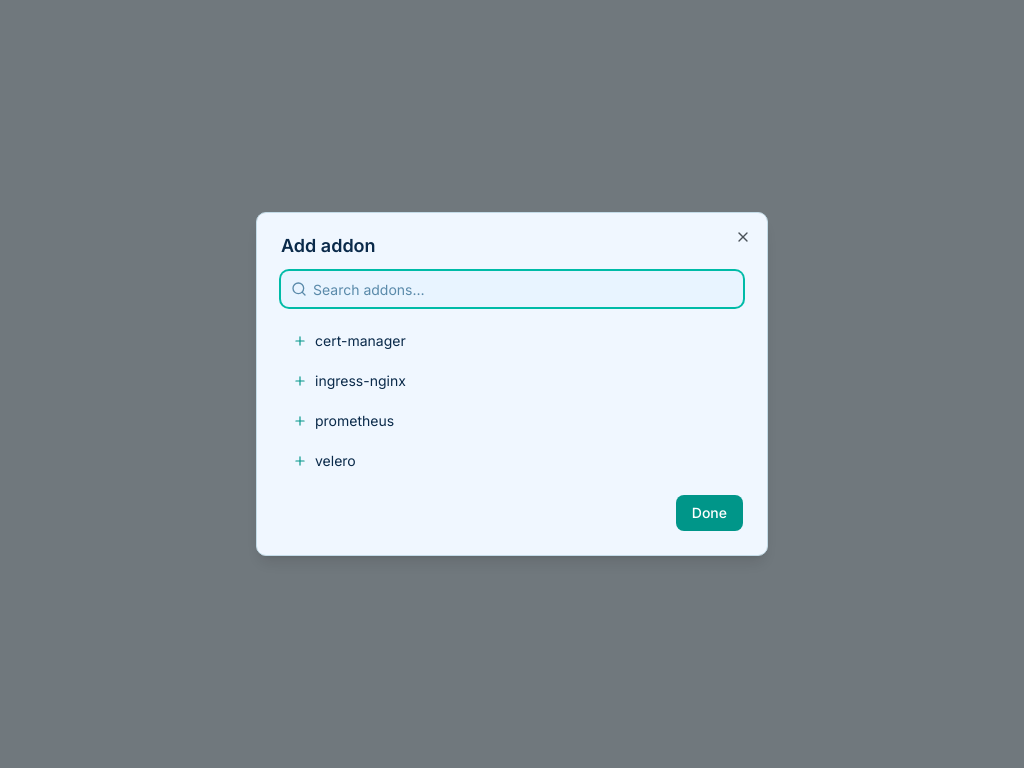
Scenario: EnableAddonPicker › shows "No addons match your search" when search has no hits
Type "zzznomatch" into the field with test id "addon-picker-search" at (512, 289), box [281,271,743,307]
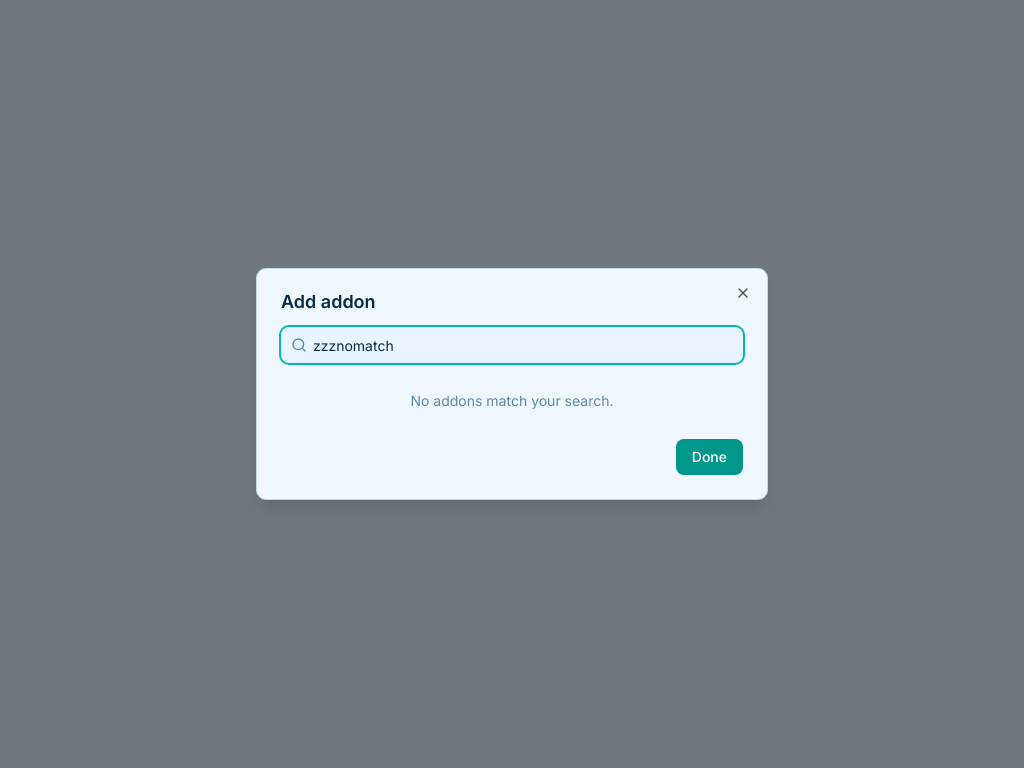
expect the text "No addons match your search." is shown: met, box [410,392,614,409]
